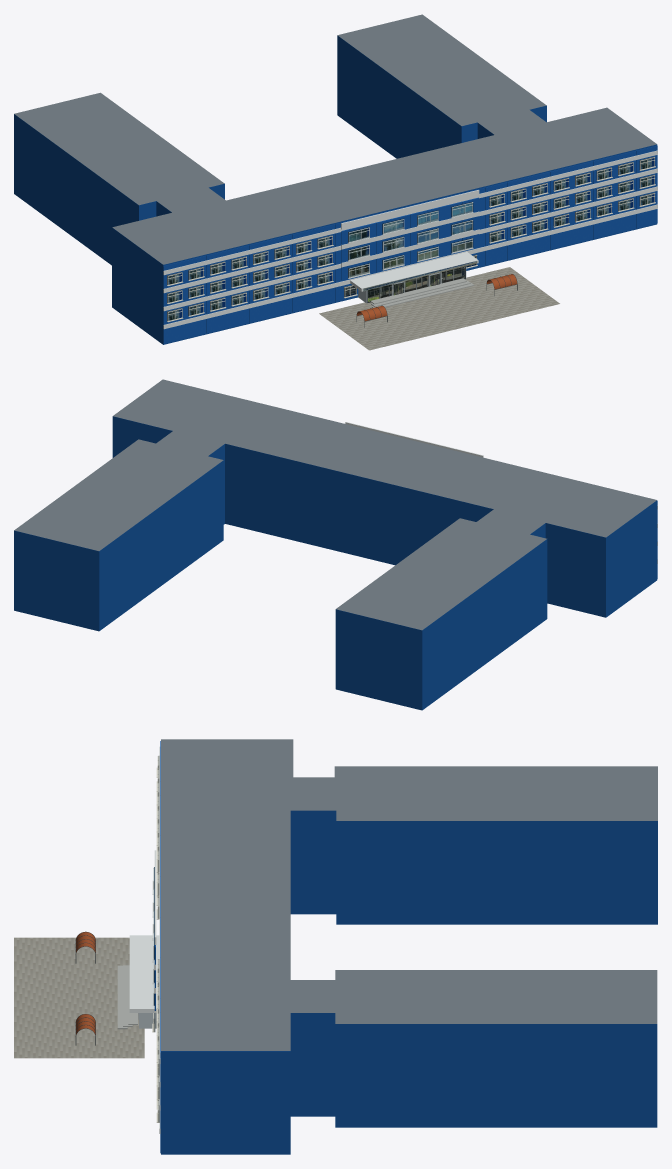
The model's file is building-1.glb.
3 renders of one model, top to bottom at view 1: azimuth 30°, elevation 25°; view 2: azimuth 150°, elevation 25°; view 3: azimuth 270°, elevation 25°, orthographic. The views are drawn at different scales.
Parts seen in each view (by area): view 1: building-1-mesh (×25); view 2: building-1-mesh (×2); view 3: building-1-mesh (×4).
Part boxes in pixels (x1,y1,x2,y2): building-1-mesh (×25): (14, 14, 657, 350); building-1-mesh (×2): (14, 379, 657, 710); building-1-mesh (×4): (14, 739, 657, 1154).
Bounding box in the file's own units: 90.47 × 14.09 × 78.91.
39 materials, 28 textured.
